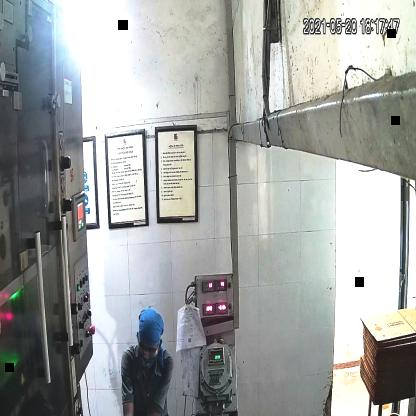goggles: (135, 333, 164, 362)
